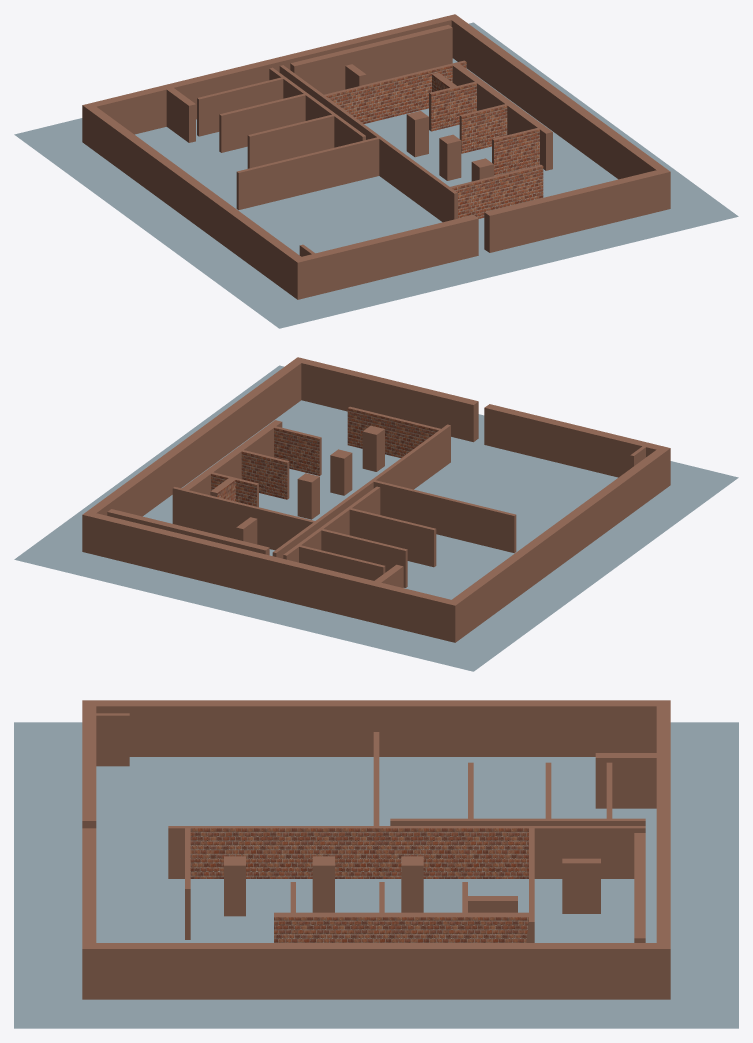
Rendered from walls_floor.dae.
3 views of the same model, one above another, from view 1: azimuth 30°, elevation 25°; view 2: azimuth 150°, elevation 25°; view 3: azimuth 270°, elevation 25° (orthographic). The views are drawn at different scales.
Parts seen in each view (by area): view 1: walls, floorplane; view 2: walls, floorplane; view 3: walls, floorplane.
Boxes of the visible parts, <box> form: walls: <box>82,14,670,299</box>; floorplane: <box>14,22,738,328</box>; walls: <box>82,357,670,642</box>; floorplane: <box>14,365,738,671</box>; walls: <box>82,700,670,999</box>; floorplane: <box>14,722,738,1028</box>.
Bounding box in the file's own units: 259 × 259 × 20.
